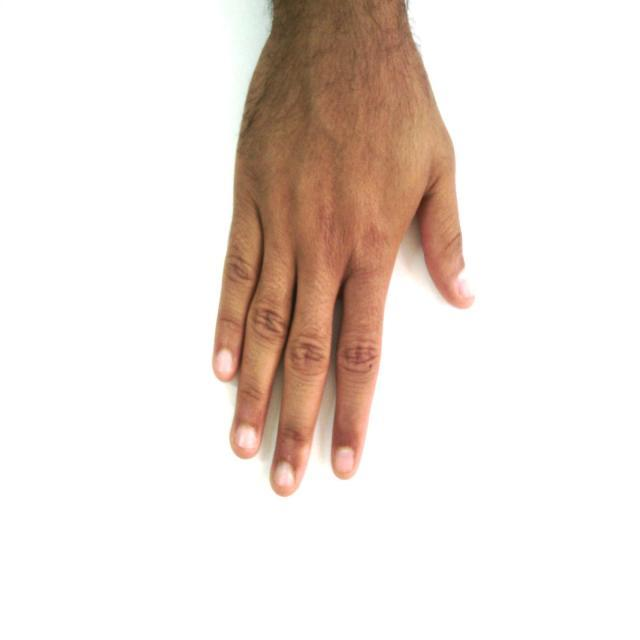Fingernail: (274, 464, 294, 491), (335, 448, 354, 476), (238, 426, 257, 450), (216, 351, 234, 374), (457, 277, 474, 299)
